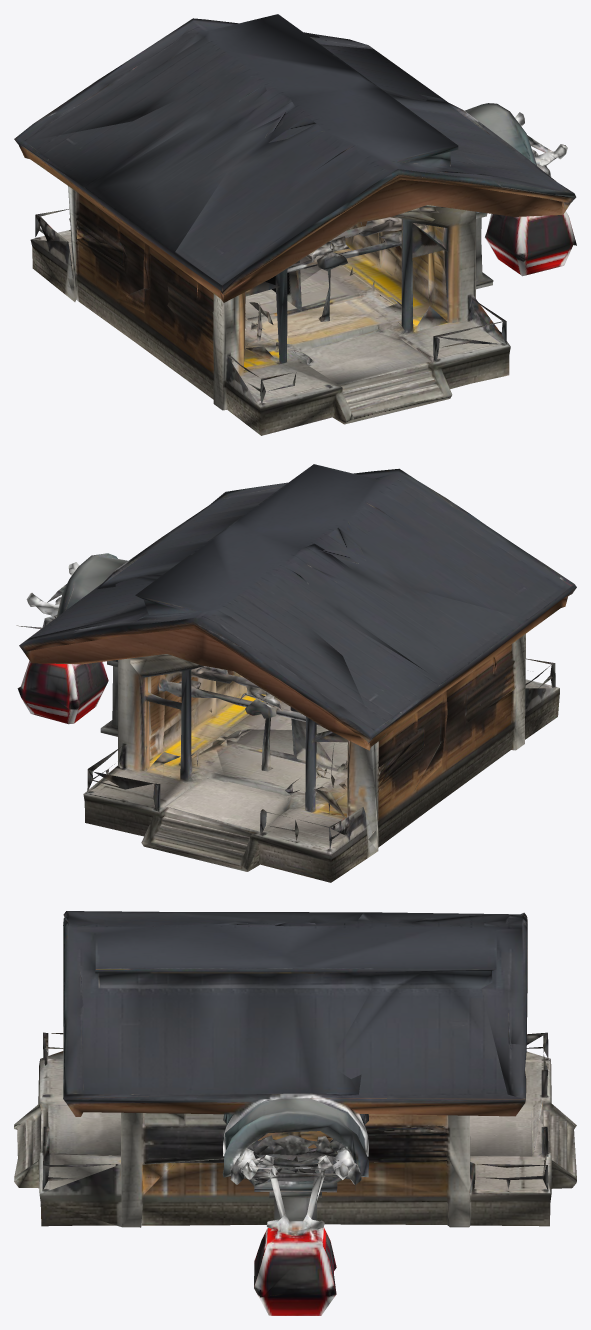
The model's file is city_ordu_cable_station.glb.
The picture shows the model from 3 angles, top to bottom: view 1: azimuth 30°, elevation 25°; view 2: azimuth 150°, elevation 25°; view 3: azimuth 270°, elevation 25°; orthographic projection. The views are drawn at different scales.
Parts seen in each view (by area): view 1: Mesh1.0; view 2: Mesh1.0; view 3: Mesh1.0.
Part boxes in pixels (box(x1,y1,x2,y2)): Mesh1.0: box(14, 14, 576, 435); Mesh1.0: box(16, 464, 576, 882); Mesh1.0: box(14, 911, 576, 1315).
Size of the model in its own units: 9.01 by 4.4 by 8.91.
1 material, 1 textured.
